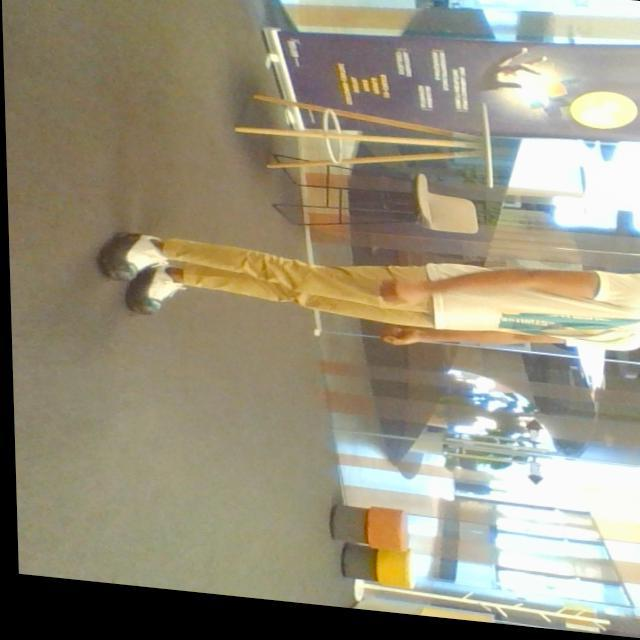shoes: (123, 262, 191, 318), (101, 229, 169, 285)
